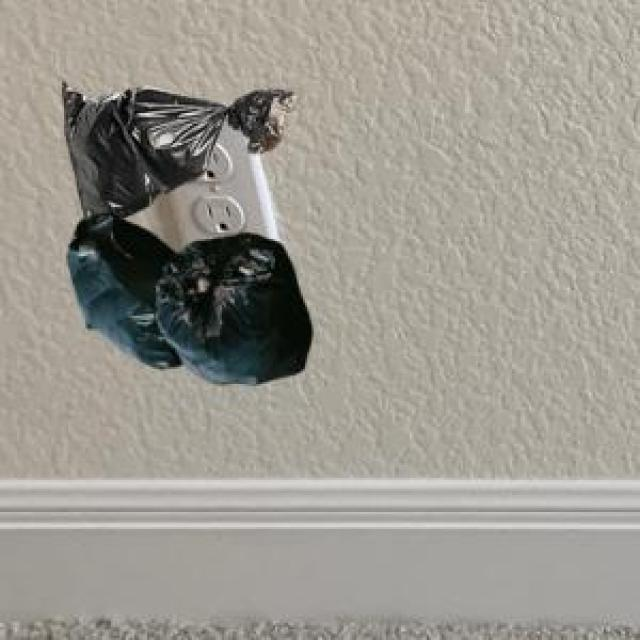Vinyl: (56, 87, 284, 208), (165, 234, 311, 374), (68, 212, 184, 364)
